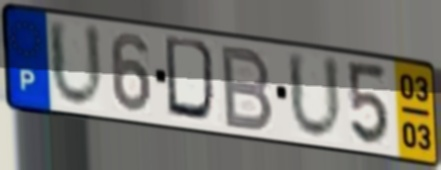5: (344, 58, 393, 151)
6: (106, 30, 152, 116)
B: (220, 42, 277, 134)
D: (162, 33, 223, 128)
U: (45, 15, 108, 112), (284, 47, 346, 144)
